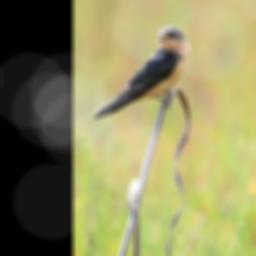Swallow: (84, 20, 191, 124)
